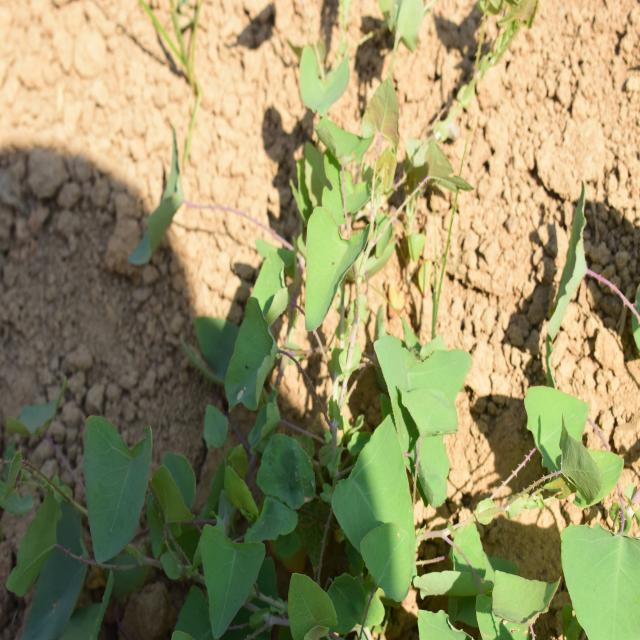Asiatic_Smartweed: (324, 299, 476, 630), (12, 430, 169, 625), (287, 64, 384, 322), (157, 458, 290, 626)
